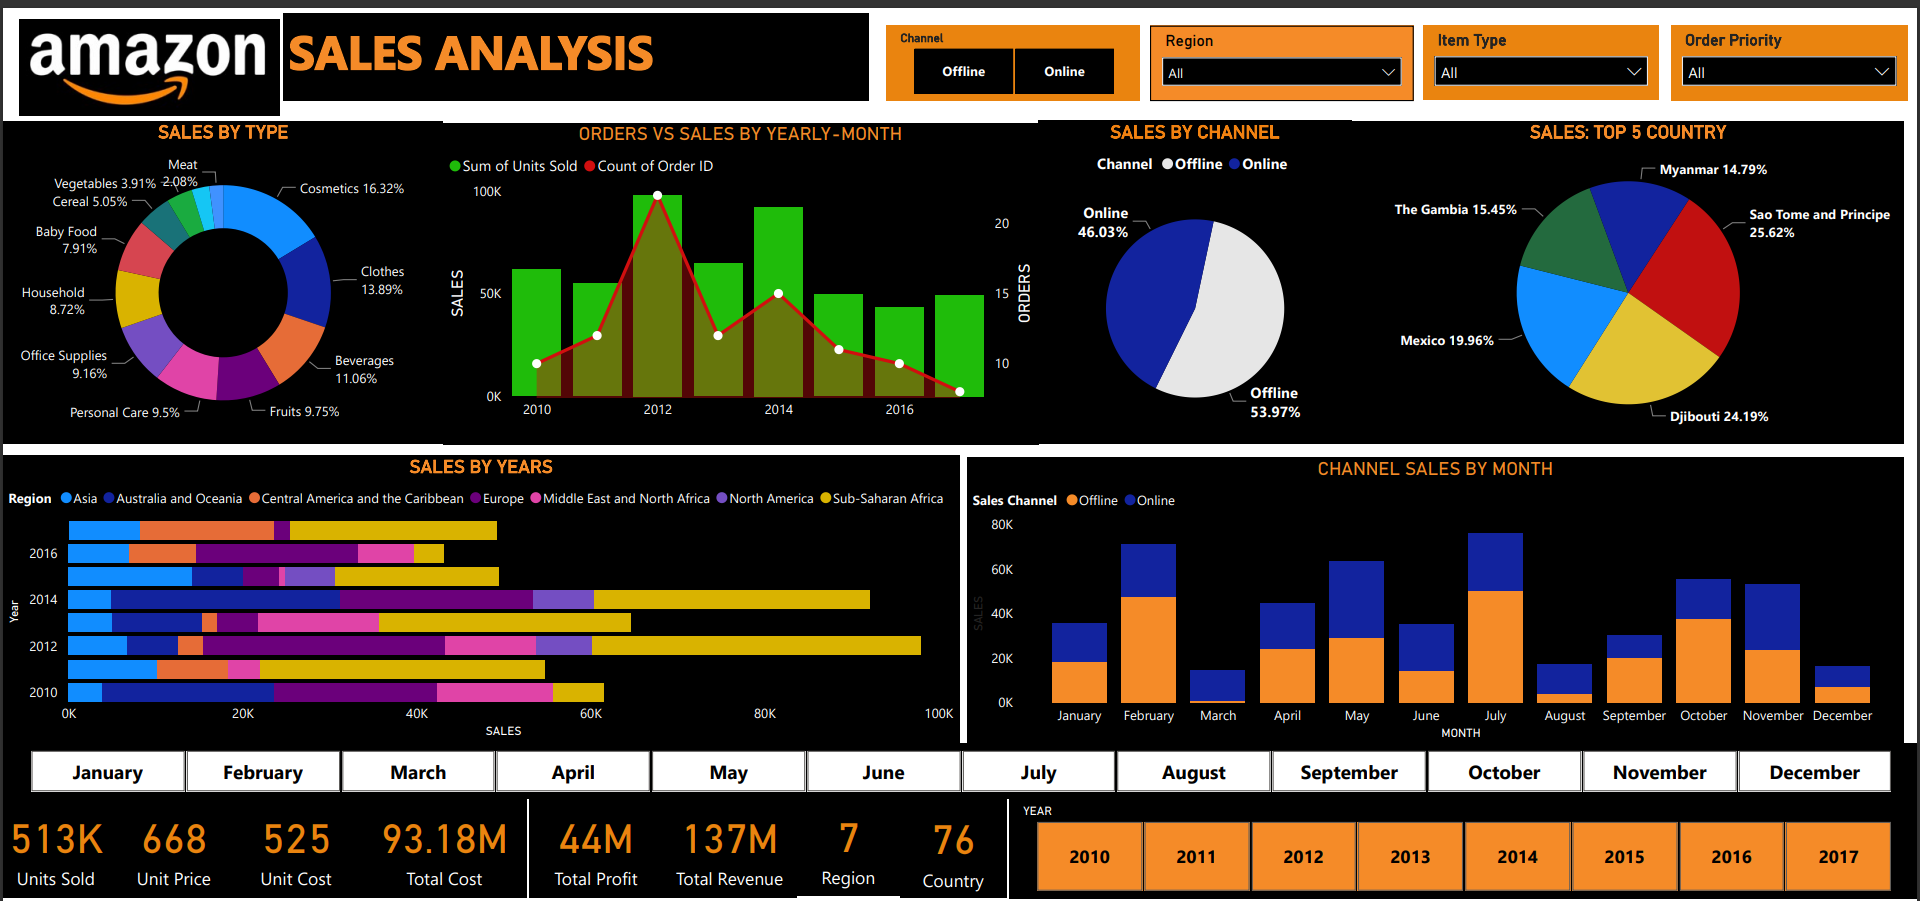

Layout of this report page (visuals, bound fields, positions):
{"tool":"powerbi","page":{"name":"Page 1","canvas":[1749,811],"ordinal":0},"visuals":[{"type":"image","box":[0,0,268.3,97.9],"z":0},{"type":"slicer","fields":{"Values":["Amazon Sales data.Sales Channel"]},"box":[807.2,10.8,232,68.9],"z":1000},{"type":"slicer","fields":{"Values":["Amazon Sales data.Order Priority"]},"box":[1524.5,11.1,215.7,68.9],"z":2000},{"type":"card","fields":{"Values":["Count(Amazon Sales data.Country)"]},"box":[820.2,717.5,96.9,89.7],"z":3000},{"type":"slicer","fields":{"Values":["Amazon Sales data.Item Type"]},"box":[1297.7,11.4,215.3,68.2],"z":4000},{"type":"card","fields":{"Values":["Count(Amazon Sales data.Region)"]},"box":[725.2,713.9,95.1,93.3],"z":5000},{"type":"card","fields":{"Values":["Max(Amazon Sales data.Unit Price)"]},"box":[106.2,713.9,100.5,95.1],"z":6000},{"type":"card","fields":{"Values":["Sum(Amazon Sales data.Total Cost)"]},"box":[328.7,713.9,148.9,95.1],"z":7000},{"type":"card","fields":{"Values":["Sum(Amazon Sales data.Total Profit)"]},"box":[481.2,713.9,122,95.1],"z":8000},{"type":"card","fields":{"Values":["Sum(Amazon Sales data.Units Sold)"]},"box":[-8.6,713.9,114.8,95.1],"z":9000},{"type":"card","fields":{"Values":["Max(Amazon Sales data.Unit Cost)"]},"box":[206.7,713.9,122,95.1],"z":10000},{"type":"card","fields":{"Values":["Sum(Amazon Sales data.Total Revenue)"]},"box":[603.2,713.9,122,95.1],"z":11000},{"type":"slicer","fields":{"Values":["Amazon Sales data.Region"]},"box":[1048.3,10.8,241.1,68.9],"z":12000},{"type":"pieChart","title":"SALES BY CHANNEL","fields":{"Y":["Sum(Amazon Sales data.Units Sold)"],"Category":["Amazon Sales data.Sales Channel"]},"box":[946.2,97.9,286.4,295.5],"z":13000},{"type":"pieChart","title":"SALES: TOP 5 COUNTRY ","fields":{"Category":["Amazon Sales data.Country"],"Y":["Sum(Amazon Sales data.Units Sold)"]},"box":[1232.7,97.9,503.9,295.5],"z":14000},{"type":"barChart","title":"SALES BY YEARS","fields":{"Category":["Amazon Sales data.Order Date.Variation.Date Hierarchy.Year"],"Y":["Sum(Amazon Sales data.Units Sold)"],"Series":["Amazon Sales data.Region"]},"box":[0,404.2,873.7,262.8],"z":15000},{"type":"columnChart","title":"CHANNEL SALES BY MONTH","fields":{"Category":["Amazon Sales data.Order Date.Variation.Date Hierarchy.Month"],"Y":["Sum(Amazon Sales data.Units Sold)"],"Series":["Amazon Sales data.Sales Channel"]},"box":[881,406.1,855.6,262.8],"z":16000},{"type":"donutChart","title":"SALES BY TYPE","fields":{"Category":["Amazon Sales data.Item Type"],"Y":["Sum(Amazon Sales data.Units Sold)"]},"box":[0,97.9,402.4,295.5],"z":17000},{"type":"lineClusteredColumnComboChart","title":"ORDERS VS SALES BY YEARLY-MONTH","fields":{"Category":["Amazon Sales data.Order Date.Variation.Date Hierarchy.Year","Amazon Sales data.Order Date.Variation.Date Hierarchy.Month"],"Y":["Sum(Amazon Sales data.Units Sold)"],"Y2":["CountNonNull(Amazon Sales data.Order ID)"]},"box":[402.4,99.7,543.8,293.7],"z":18000},{"type":"slicer","fields":{"Values":["Amazon Sales data.Order Date.Variation.Date Hierarchy.Year"]},"box":[919.1,717.8,830.2,90.6],"z":19000},{"type":"slicer","fields":{"Values":["Amazon Sales data.Order Date.Variation.Date Hierarchy.Month"]},"box":[0,667.1,1749.3,50.8],"z":20000},{"type":"textbox","box":[255.6,0,534.8,79.8],"z":21000}]}

Visuals, with their boxes in screenshot pixels (x1, y1, x2, y2), scaled from the page's 1749x811 canvas onto the 1920x901 screenshot:
image: x1=0 y1=0 x2=295 y2=109
slicer - Amazon Sales data.Sales Channel: x1=886 y1=12 x2=1141 y2=89
slicer - Amazon Sales data.Order Priority: x1=1674 y1=12 x2=1910 y2=89
card - Count(Amazon Sales data.Country): x1=900 y1=797 x2=1007 y2=897
slicer - Amazon Sales data.Item Type: x1=1425 y1=13 x2=1661 y2=88
card - Count(Amazon Sales data.Region): x1=796 y1=793 x2=901 y2=897
card - Max(Amazon Sales data.Unit Price): x1=117 y1=793 x2=227 y2=899
card - Sum(Amazon Sales data.Total Cost): x1=361 y1=793 x2=524 y2=899
card - Sum(Amazon Sales data.Total Profit): x1=528 y1=793 x2=662 y2=899
card - Sum(Amazon Sales data.Units Sold): x1=0 y1=793 x2=117 y2=899
card - Max(Amazon Sales data.Unit Cost): x1=227 y1=793 x2=361 y2=899
card - Sum(Amazon Sales data.Total Revenue): x1=662 y1=793 x2=796 y2=899
slicer - Amazon Sales data.Region: x1=1151 y1=12 x2=1415 y2=89
"SALES BY CHANNEL" pieChart: x1=1039 y1=109 x2=1353 y2=437
"SALES: TOP 5 COUNTRY " pieChart: x1=1353 y1=109 x2=1906 y2=437
"SALES BY YEARS" barChart: x1=0 y1=449 x2=959 y2=741
"CHANNEL SALES BY MONTH" columnChart: x1=967 y1=451 x2=1906 y2=743
"SALES BY TYPE" donutChart: x1=0 y1=109 x2=442 y2=437
"ORDERS VS SALES BY YEARLY-MONTH" lineClusteredColumnComboChart: x1=442 y1=111 x2=1039 y2=437
slicer - Amazon Sales data.Order Date.Variation.Date Hierarchy.Year: x1=1009 y1=797 x2=1919 y2=898
slicer - Amazon Sales data.Order Date.Variation.Date Hierarchy.Month: x1=0 y1=741 x2=1919 y2=798
textbox: x1=281 y1=0 x2=868 y2=89
